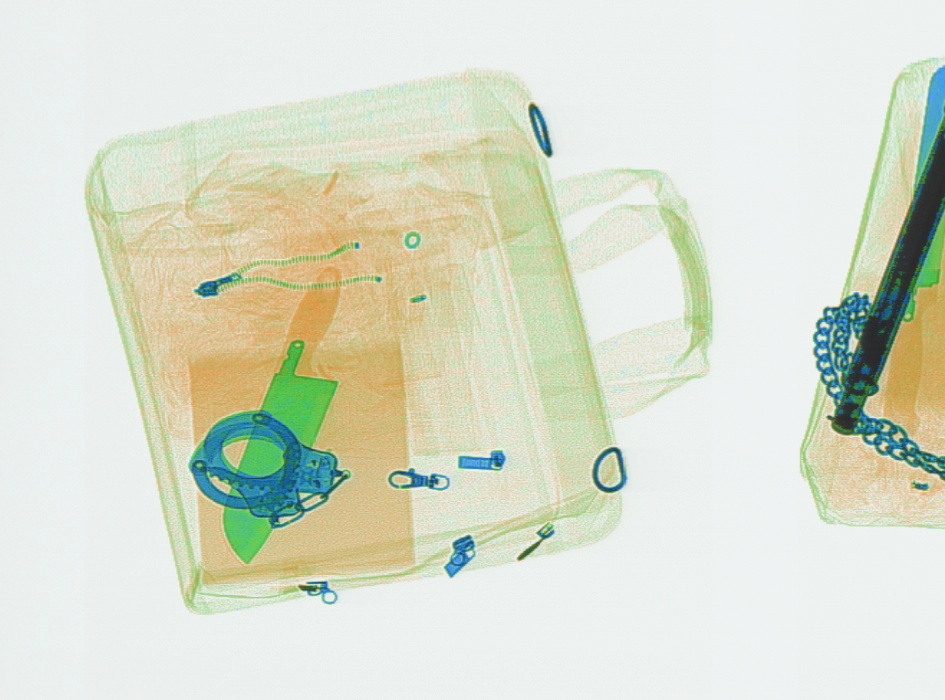handcuffs: (183, 409, 351, 527)
knife: (219, 263, 342, 566), (880, 62, 943, 440)
